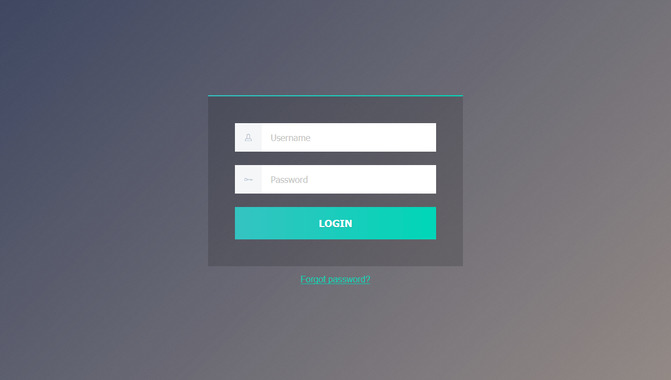_form_: (135, 1, 551, 380)
button: (232, 205, 437, 242)
field: (234, 121, 440, 153), (232, 163, 437, 195)
